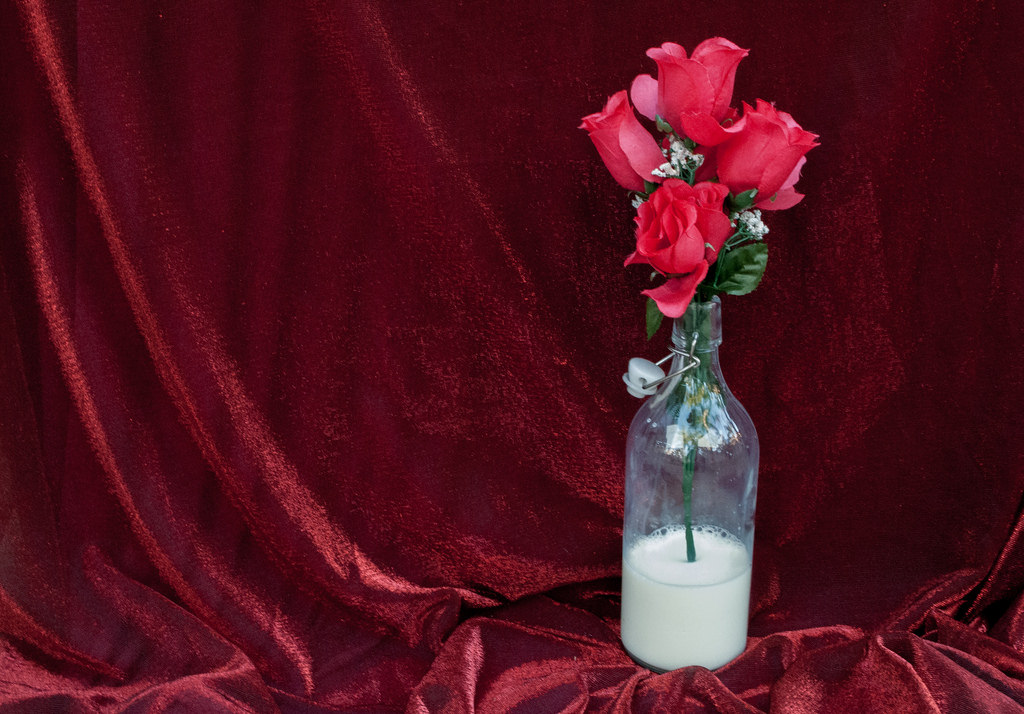glass of milk: (612, 288, 767, 674)
